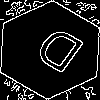D: (25, 25, 88, 83)
